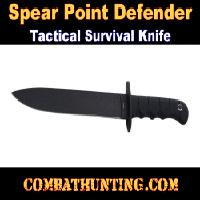knife: (6, 79, 191, 139)
